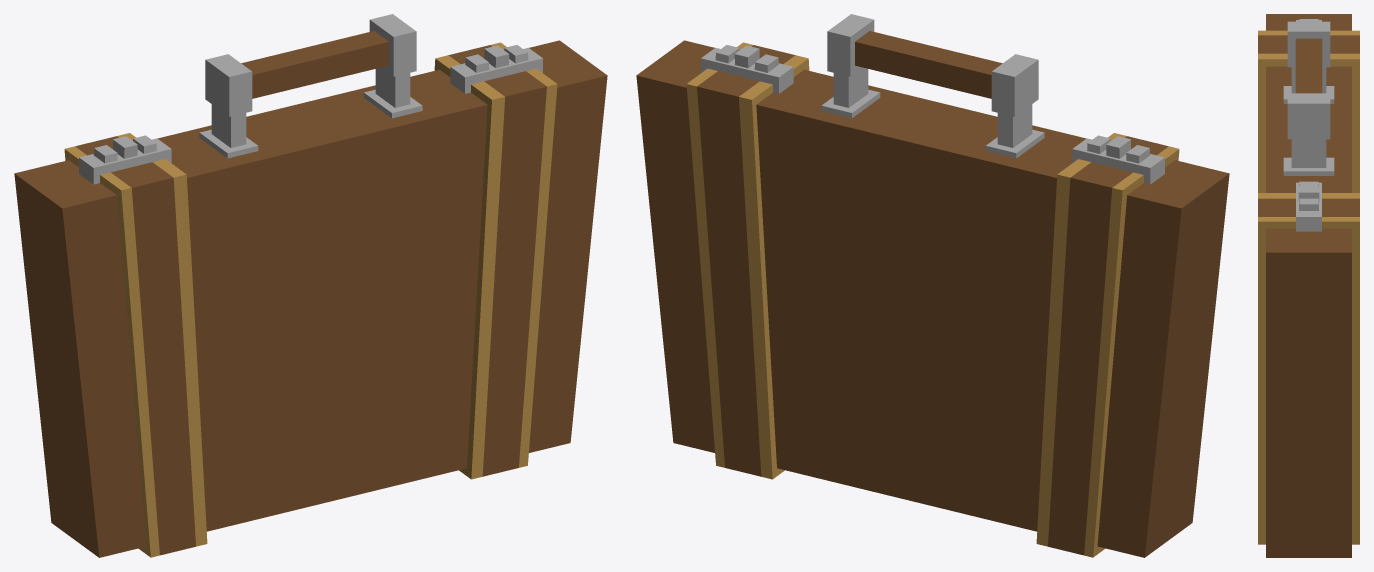
The model's file is Mdl_BriefCase.fbx.
The picture shows the model from 3 angles, left to right: view 1: azimuth 30°, elevation 25°; view 2: azimuth 150°, elevation 25°; view 3: azimuth 270°, elevation 25°; orthographic projection. The views are drawn at different scales.
Parts seen in each view (by area): view 1: Mdl_Brief_Case; view 2: Mdl_Brief_Case; view 3: Mdl_Brief_Case.
Part boxes in pixels (left/top/right/bottom): Mdl_Brief_Case: left=14, top=14, right=607, bottom=557; Mdl_Brief_Case: left=636, top=14, right=1229, bottom=557; Mdl_Brief_Case: left=1258, top=14, right=1359, bottom=557.
Size of the model in its own units: 5.45 by 4.25 by 0.9836.
